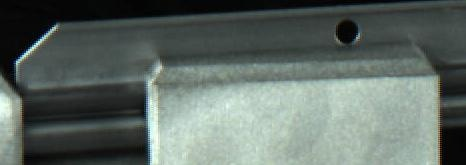cut: (16, 15, 135, 153), (411, 3, 465, 70)
holes: (334, 17, 360, 46)
